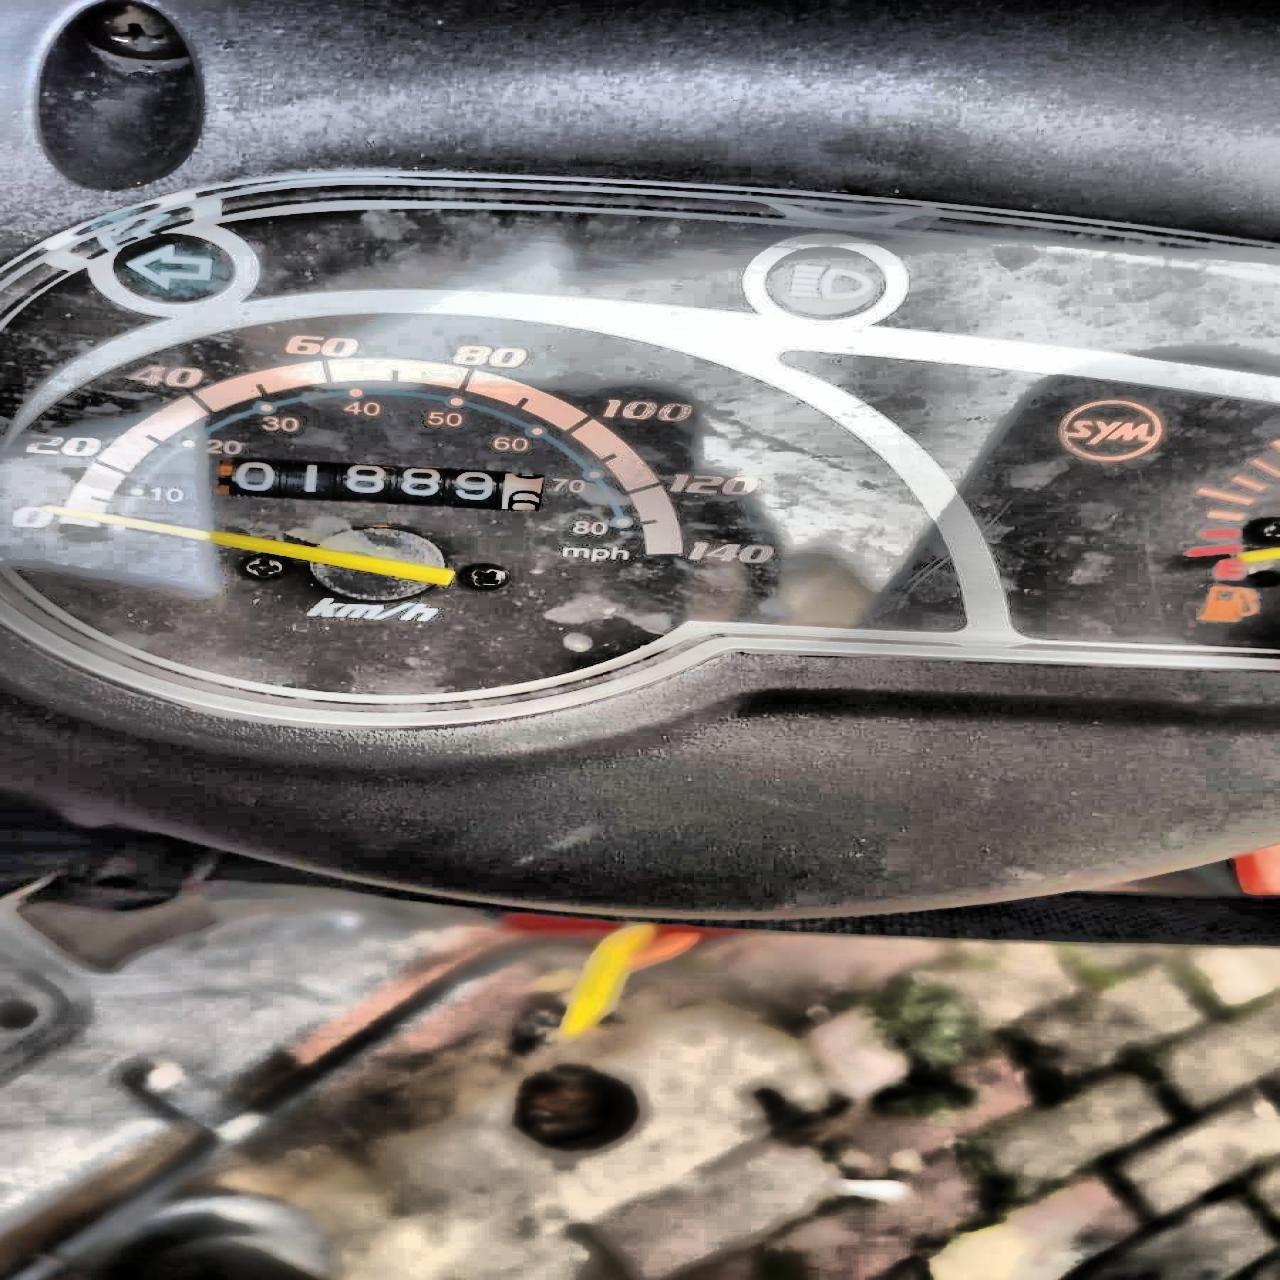0: (232, 458, 275, 493)
1: (299, 459, 320, 497)
6: (504, 485, 546, 512)
8: (341, 462, 387, 496), (399, 465, 438, 501)
9: (452, 469, 499, 503)
odometer: (212, 455, 552, 512)
